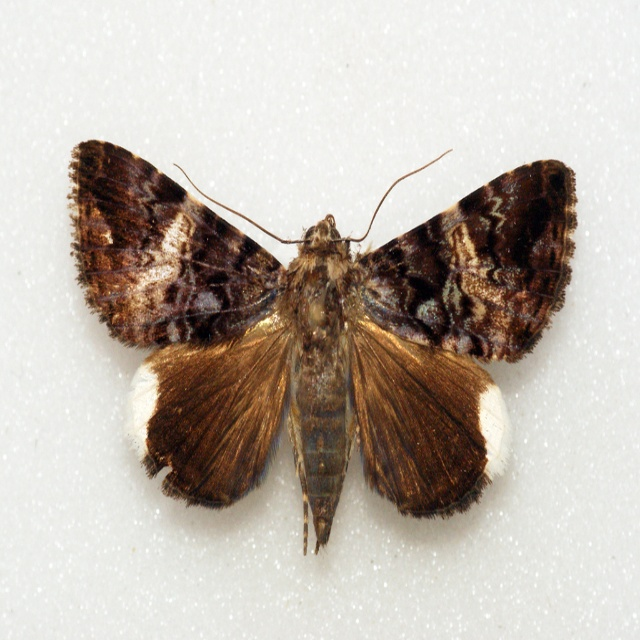Butterfly: (68, 113, 566, 553)
